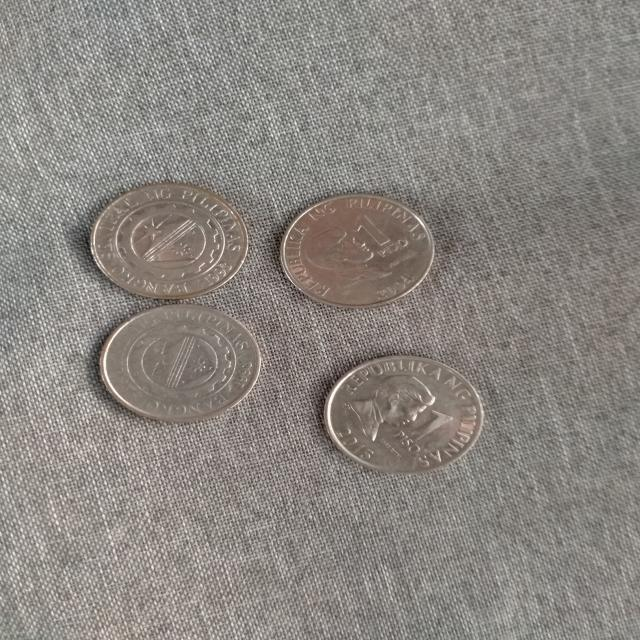1_Old_Back: (108, 196, 225, 287), (125, 318, 240, 406)
